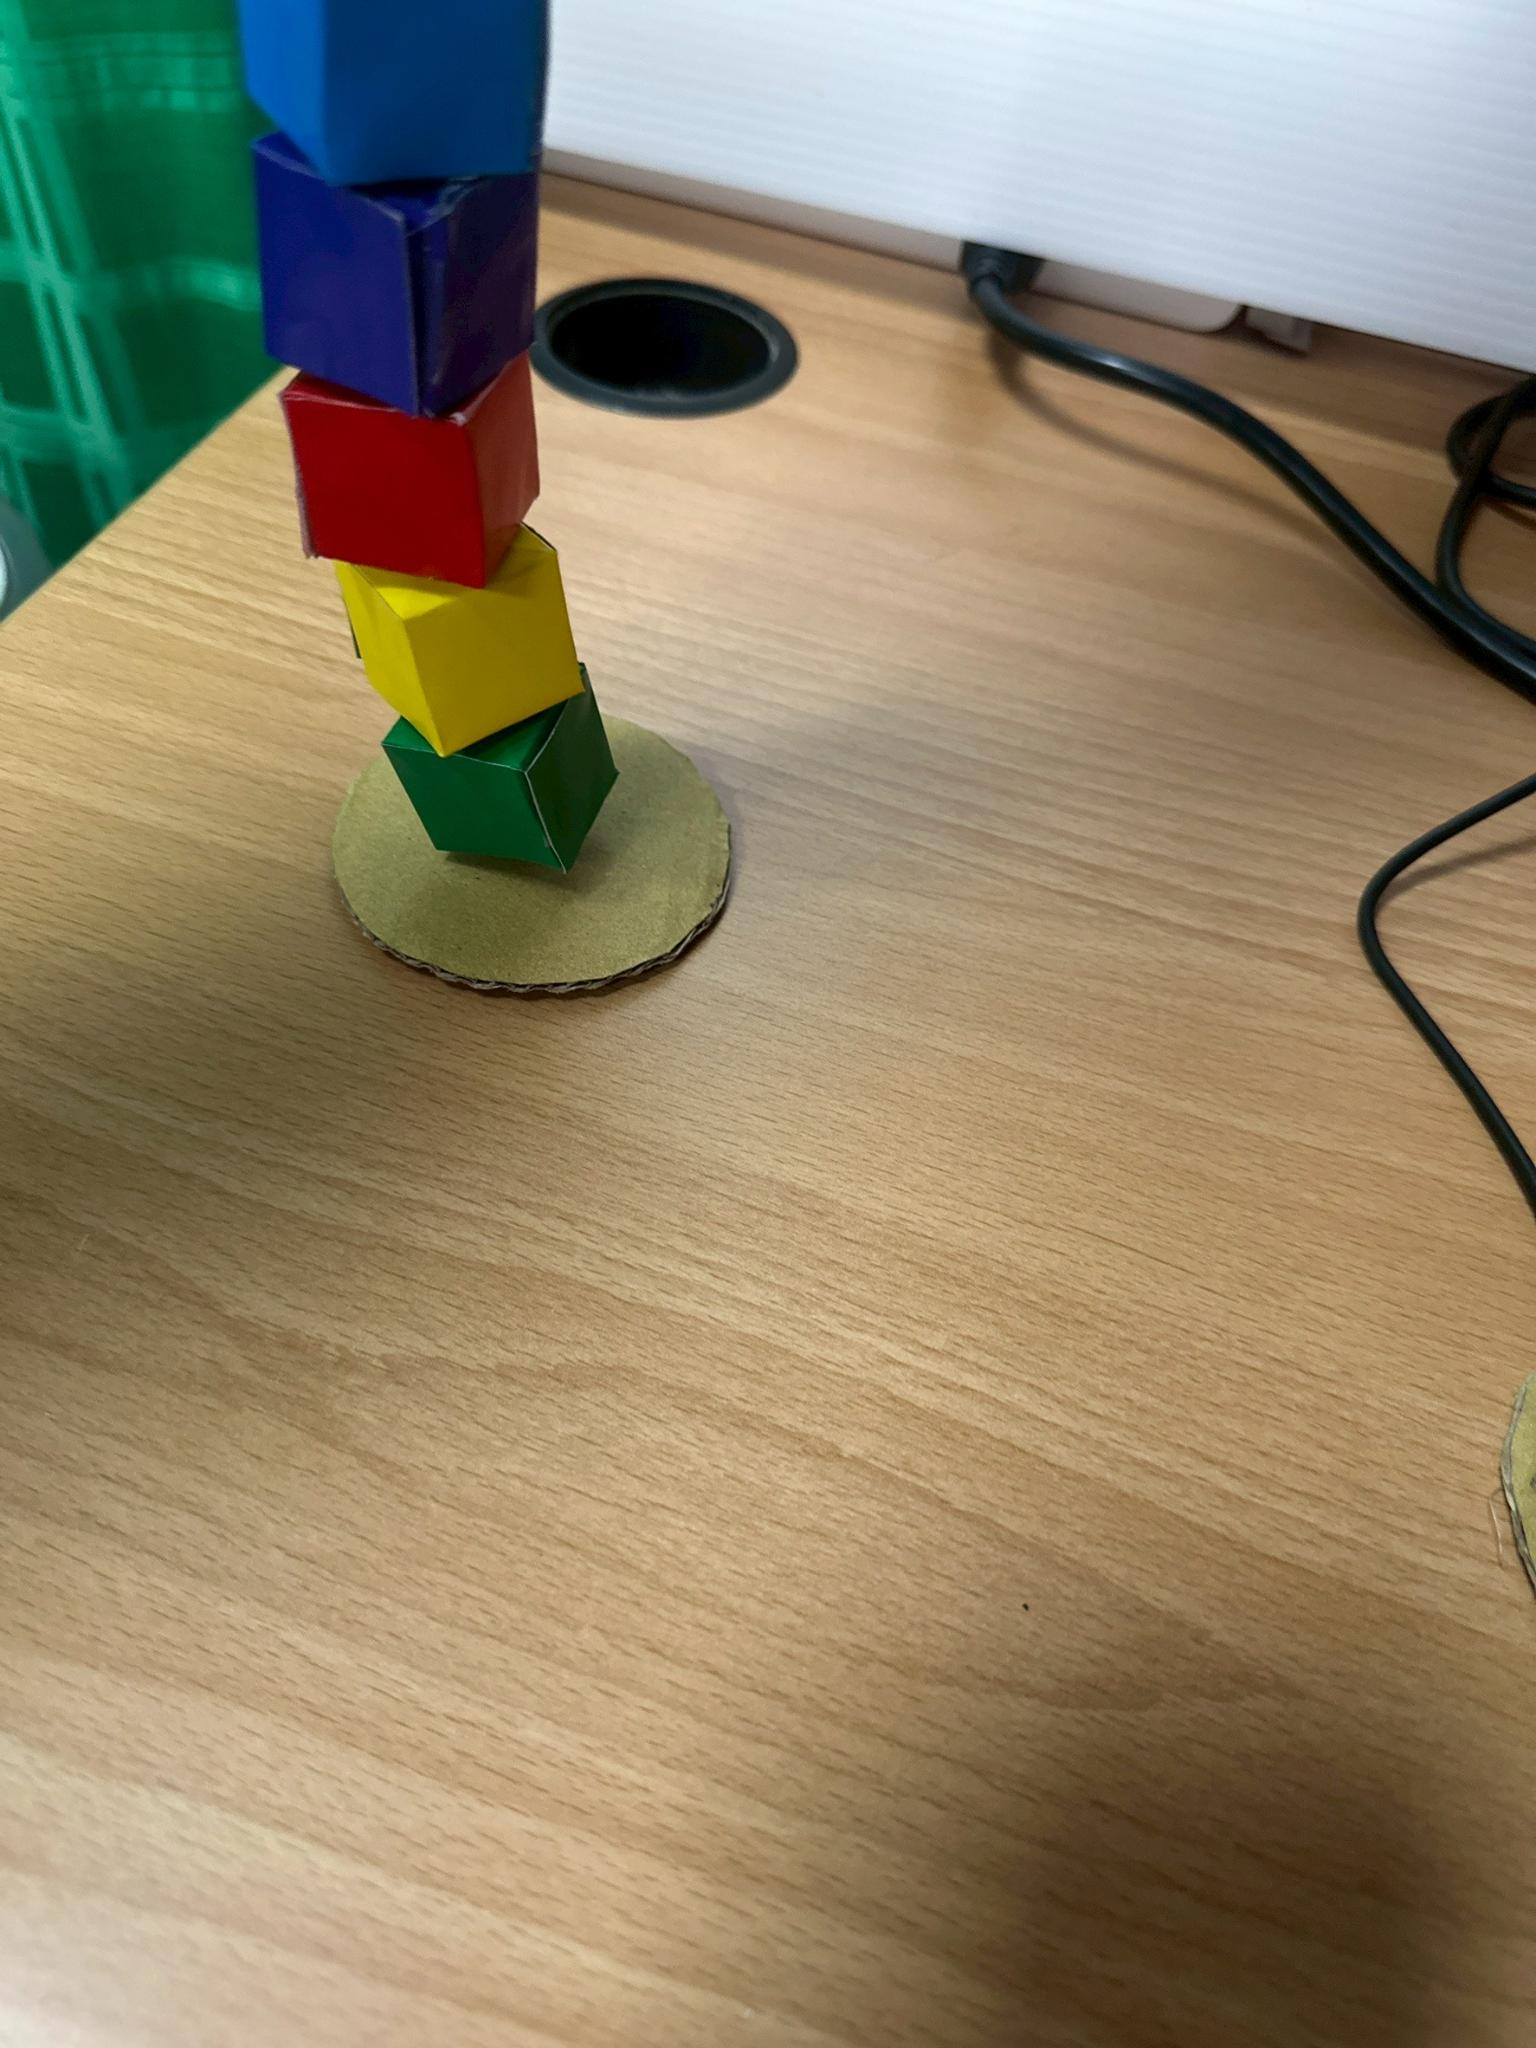base: (332, 716, 731, 987)
